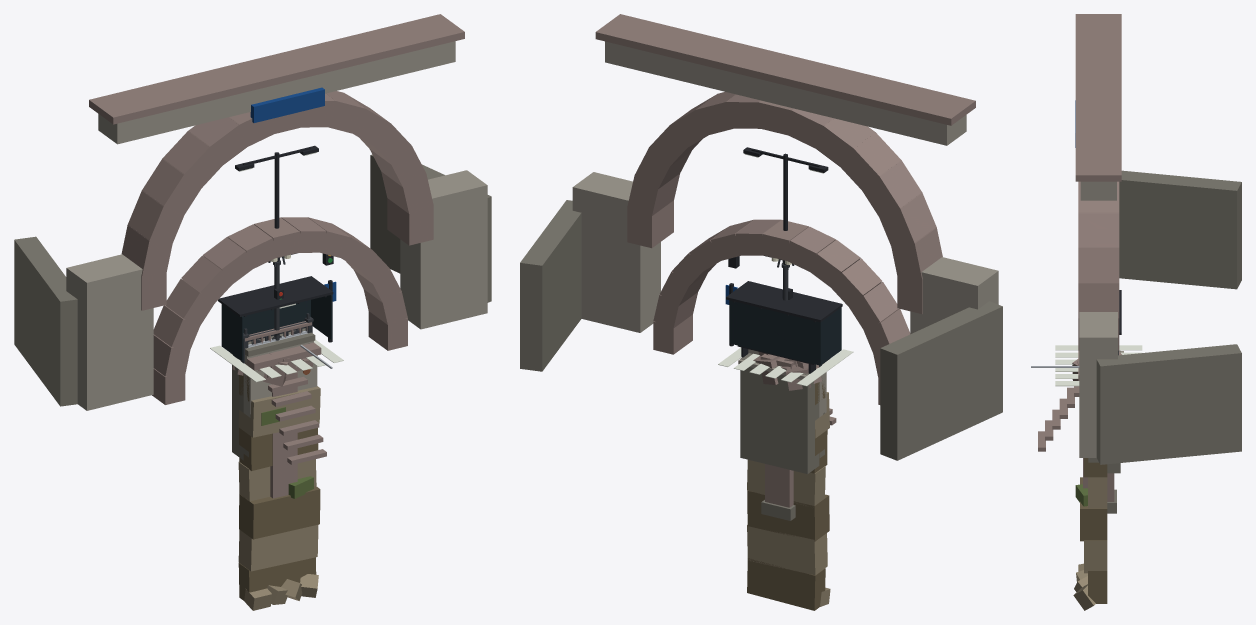
Rendered from infra_kit.glb.
3 views of the same model, side by side, from view 1: azimuth 30°, elevation 25°; view 2: azimuth 150°, elevation 25°; view 3: azimuth 270°, elevation 25° (orthographic). The views are drawn at different scales.
Parts seen in each view (by area): view 1: arch_rib; view 2: arch_rib; view 3: arch_rib.
Boxes of the visible parts, box(x1,y1,x2,y2) form: arch_rib: box(14, 14, 491, 610); arch_rib: box(520, 14, 1002, 610); arch_rib: box(1031, 14, 1241, 610).
Size of the model in its own units: 19.39 by 22.94 by 8.73.
Materials: 1 (1 with a texture image).
